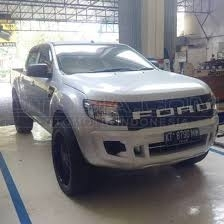plate: (165, 129, 200, 143)
